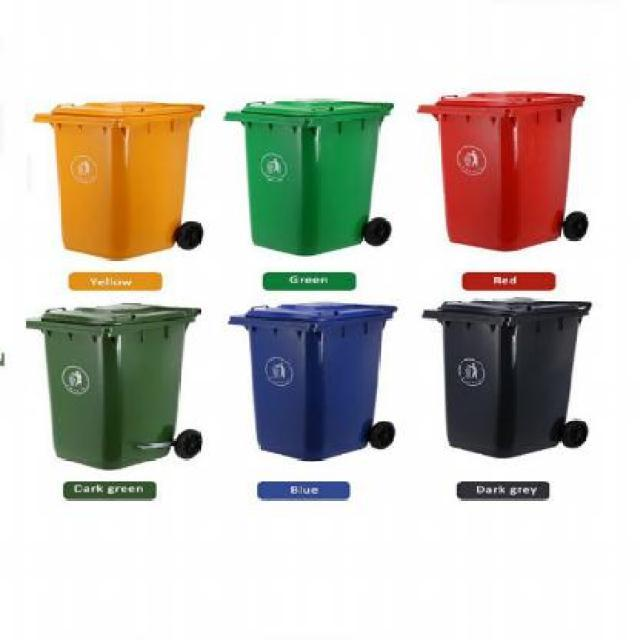garbage container: (408, 79, 621, 258), (12, 299, 213, 481), (24, 93, 228, 272), (215, 94, 417, 263), (414, 297, 600, 468), (225, 296, 401, 469)
